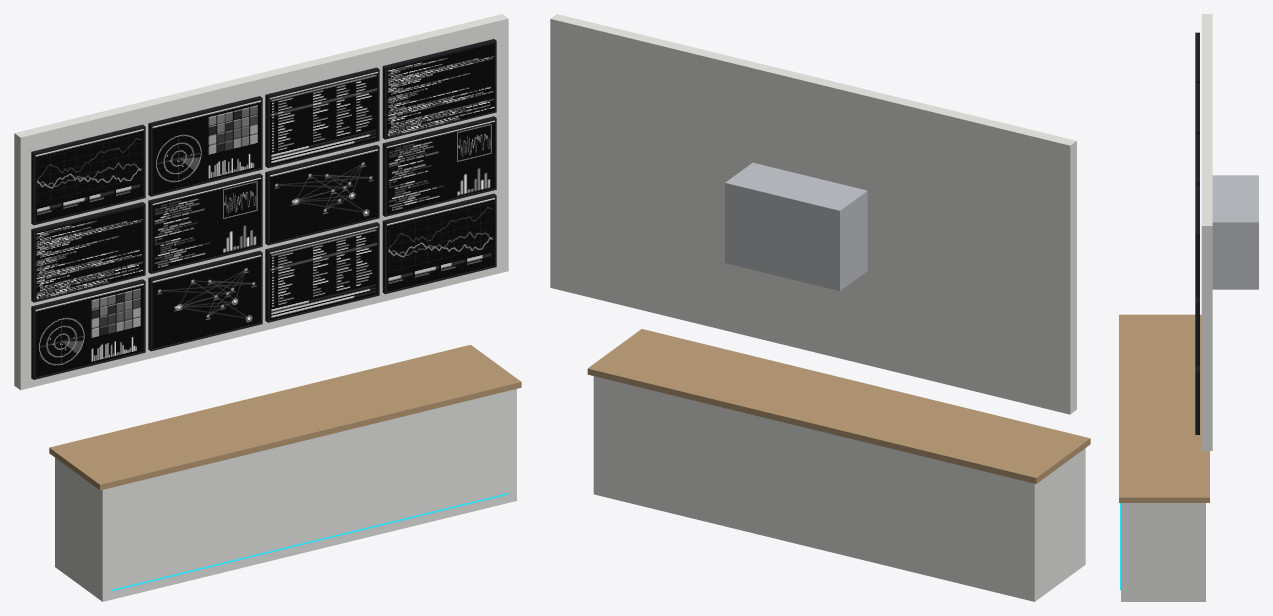
Rendered from Tech_MonitorBank.gltf.
The picture shows the model from 3 angles, left to right: view 1: azimuth 30°, elevation 25°; view 2: azimuth 150°, elevation 25°; view 3: azimuth 270°, elevation 25°; orthographic projection. The views are drawn at different scales.
Visible parts, largest first — view 1: Tech_MonitorBank; view 2: Tech_MonitorBank; view 3: Tech_MonitorBank.
Boxes of the visible parts, box(x1,y1,x2,y2) form: Tech_MonitorBank: box(14, 14, 521, 601); Tech_MonitorBank: box(550, 14, 1090, 601); Tech_MonitorBank: box(1119, 14, 1258, 601).
Bounding box in the file's own units: 2.71 × 2.34 × 0.755.
11 materials, 6 textured.
